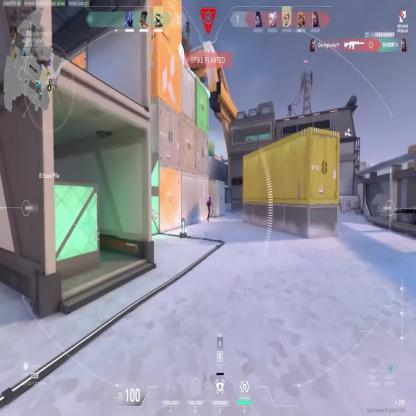enemy: (206, 196, 212, 221)
enemy_head: (209, 196, 211, 202)
